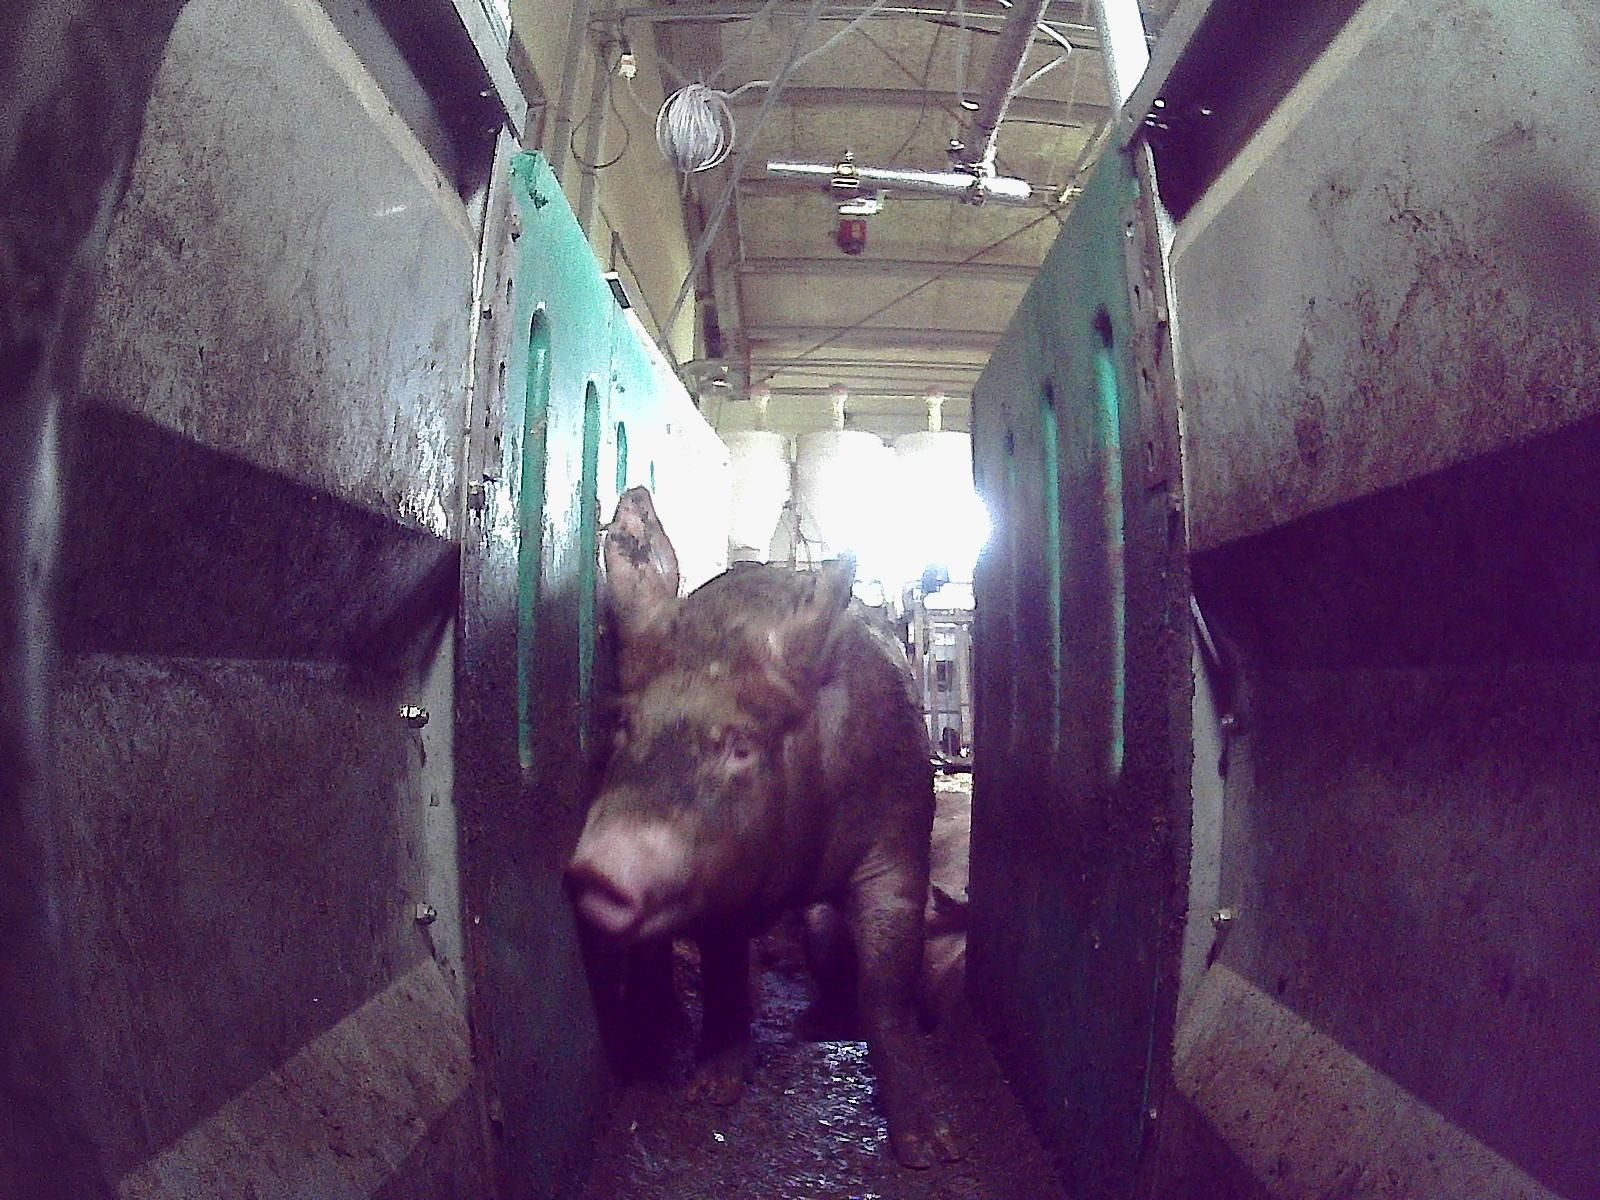Face: (565, 633, 817, 945)
